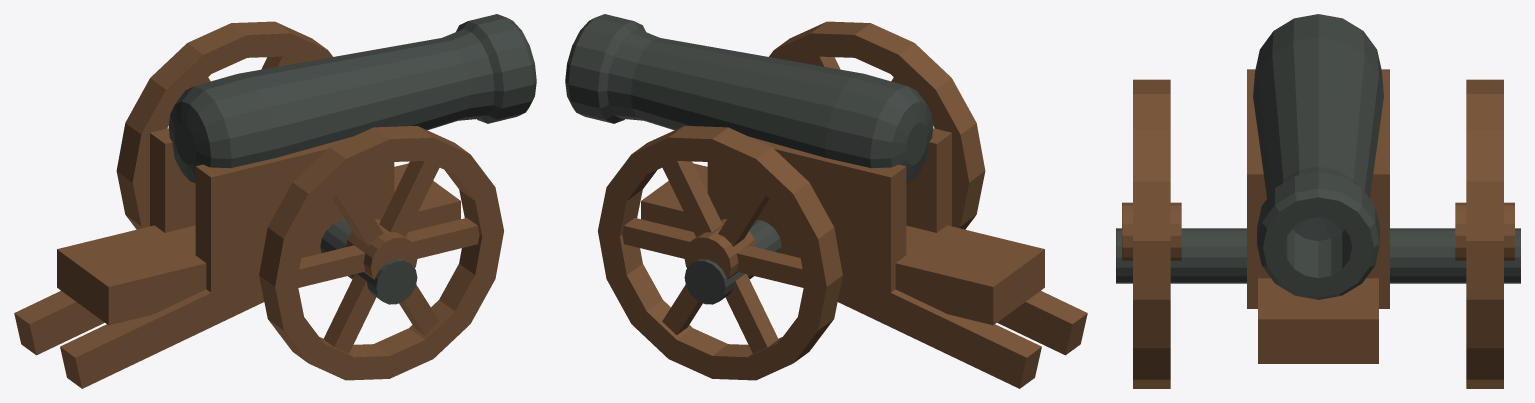
The model's file is NEW_RECOVERY_093_LOD2.fbx.
The picture shows the model from 3 angles, left to right: view 1: azimuth 30°, elevation 25°; view 2: azimuth 150°, elevation 25°; view 3: azimuth 270°, elevation 25°; orthographic projection. The views are drawn at different scales.
Parts seen in each view (by area): view 1: NEW_RECOVERY_093_Static_cannon; view 2: NEW_RECOVERY_093_Static_cannon; view 3: NEW_RECOVERY_093_Static_cannon.
Part boxes in pixels (x1=…): NEW_RECOVERY_093_Static_cannon: x1=14, y1=14, x2=536, y2=388; NEW_RECOVERY_093_Static_cannon: x1=565, y1=14, x2=1087, y2=388; NEW_RECOVERY_093_Static_cannon: x1=1116, y1=14, x2=1520, y2=388.
Size of the model in its own units: 319 by 204 by 168.
